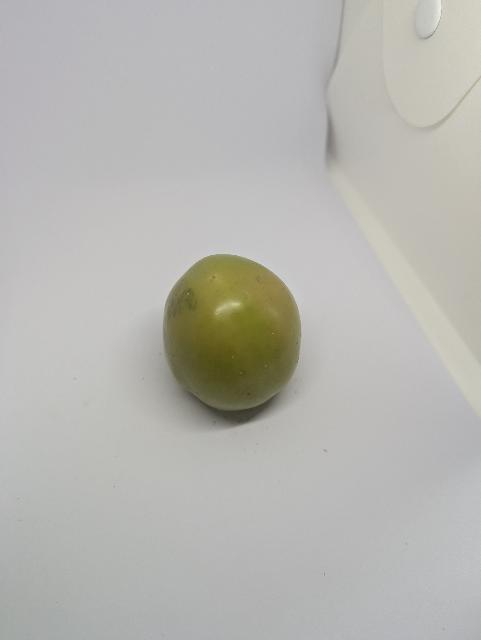green: (155, 248, 318, 438)
